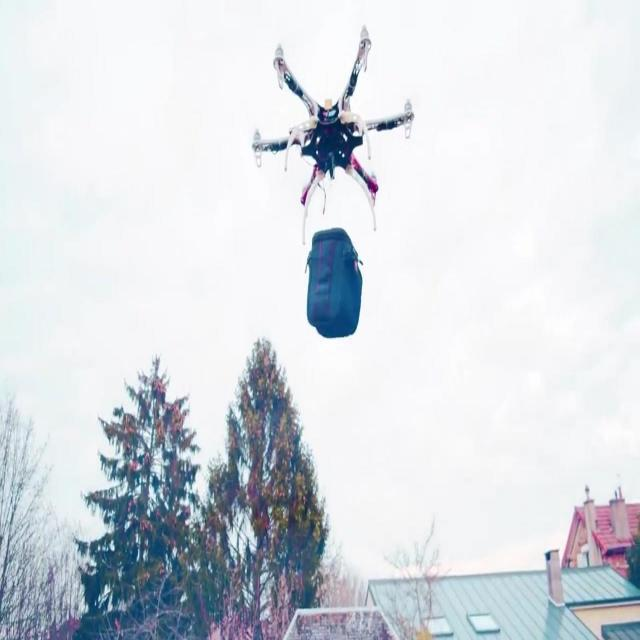UAV: (252, 24, 415, 247)
